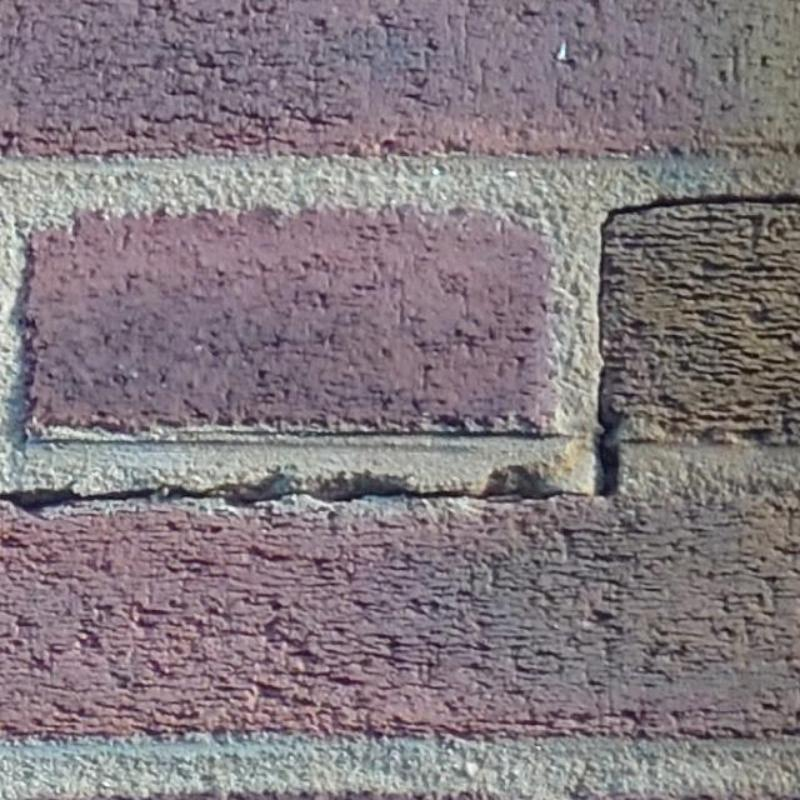pothole: (594, 194, 799, 430), (0, 483, 591, 517), (597, 425, 620, 497)
